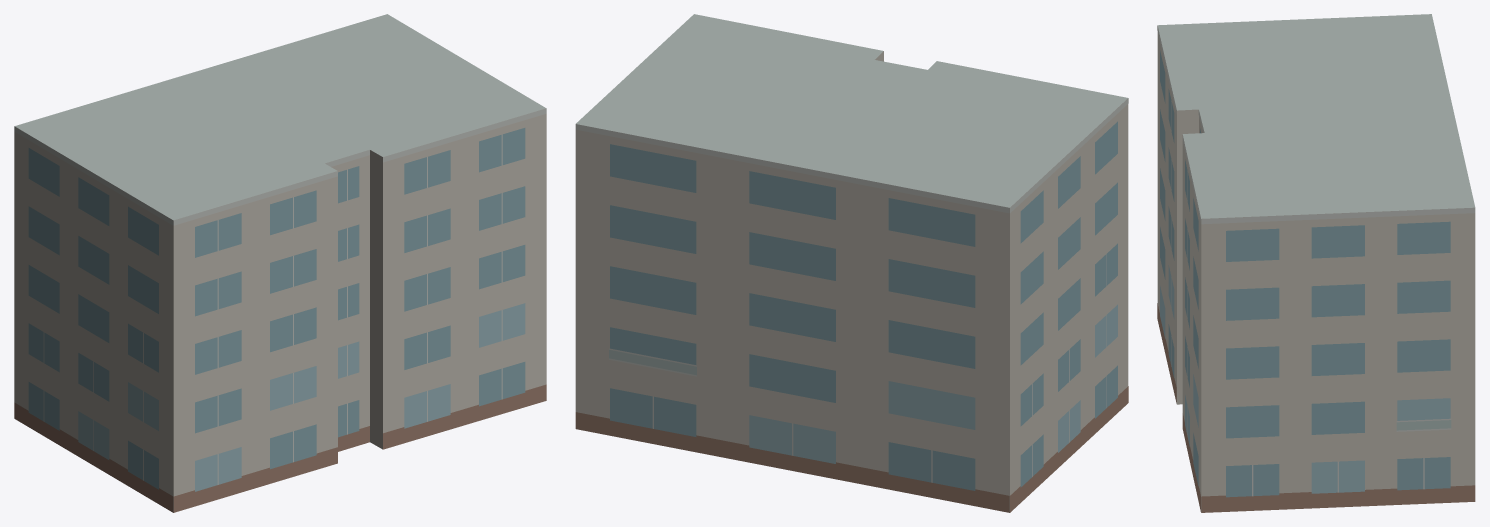
File: survey-upis-32922717.glb
The picture shows the model from 3 angles, left to right: view 1: azimuth 30°, elevation 25°; view 2: azimuth 150°, elevation 25°; view 3: azimuth 270°, elevation 25°; orthographic projection. The views are drawn at different scales.
Parts seen in each view (by area): view 1: survey-upis-32922717.tmp; view 2: survey-upis-32922717.tmp; view 3: survey-upis-32922717.tmp.
Boxes of the visible parts, left/top/right/bottom form: survey-upis-32922717.tmp: left=14, top=14, right=546, bottom=512; survey-upis-32922717.tmp: left=575, top=14, right=1128, bottom=512; survey-upis-32922717.tmp: left=1157, top=14, right=1475, bottom=512.
Bounding box in the file's own units: 19.73 × 13.2 × 12.94.
